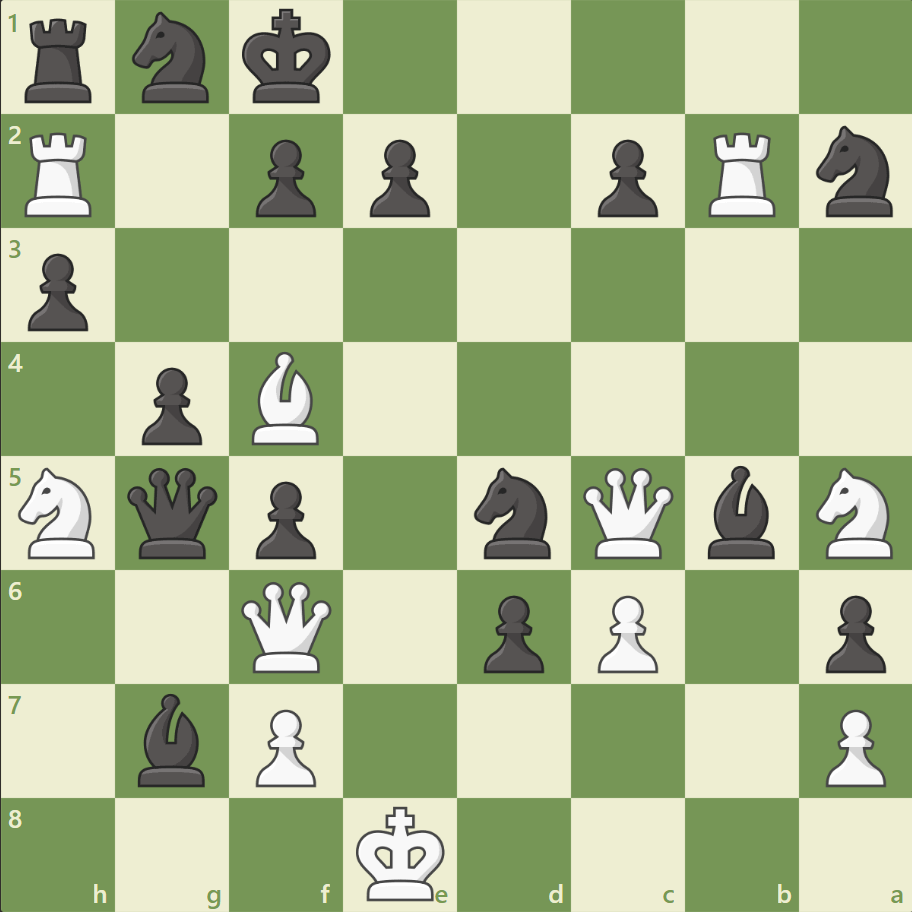B: (244, 347, 328, 449)
K: (351, 798, 451, 906)
N: (806, 461, 903, 564), (11, 461, 108, 564)
P: (247, 700, 322, 791), (815, 700, 889, 791), (588, 586, 662, 677)
Q: (237, 576, 336, 676), (578, 463, 677, 562)
R: (700, 125, 783, 222), (19, 125, 102, 222)
b: (131, 687, 215, 790), (698, 460, 782, 563)
k: (238, 4, 338, 112)
n: (124, 7, 222, 110), (465, 461, 562, 564), (806, 121, 903, 223)
p: (474, 586, 549, 677), (247, 473, 322, 564), (133, 359, 208, 450), (20, 246, 95, 337), (247, 132, 322, 223), (815, 586, 889, 677), (588, 132, 662, 223), (361, 132, 435, 223)
q: (124, 463, 223, 562)
r: (19, 12, 102, 109)
